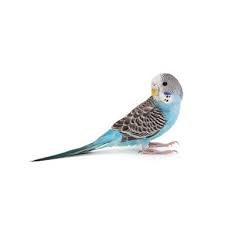budgie: (27, 73, 189, 163)
